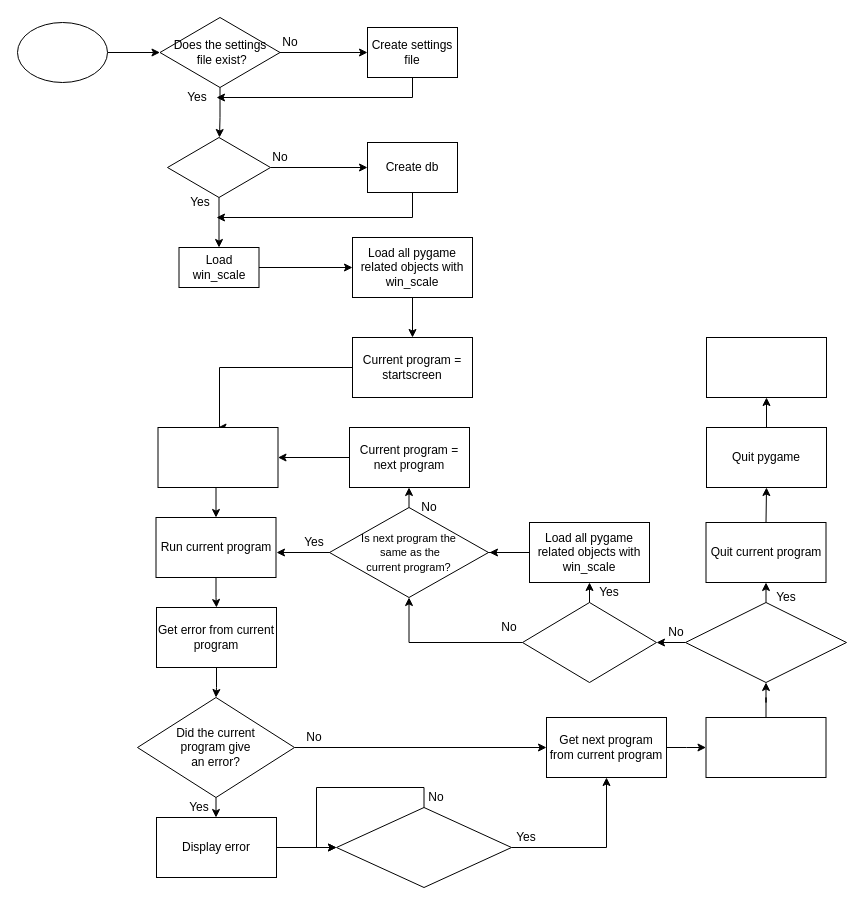
The diagram is 864 pixels wide and 905 high, and some of its shapes have lost their labels. The shapes that lost their labels are listed below. From the top down, each one's box as (x1, y1, x2, y2) in pixels, then its label:
(16, 22, 108, 82): Start
(166, 136, 270, 198): Does db exist?
(706, 336, 826, 398): Quit python
(157, 426, 278, 488): Instanciate current program
(522, 602, 656, 682): Has win_scale changed?
(684, 602, 846, 682): Did the user click the exit button?
(705, 716, 826, 778): Get win_scale from settings
(336, 806, 512, 888): Did the user left click?
